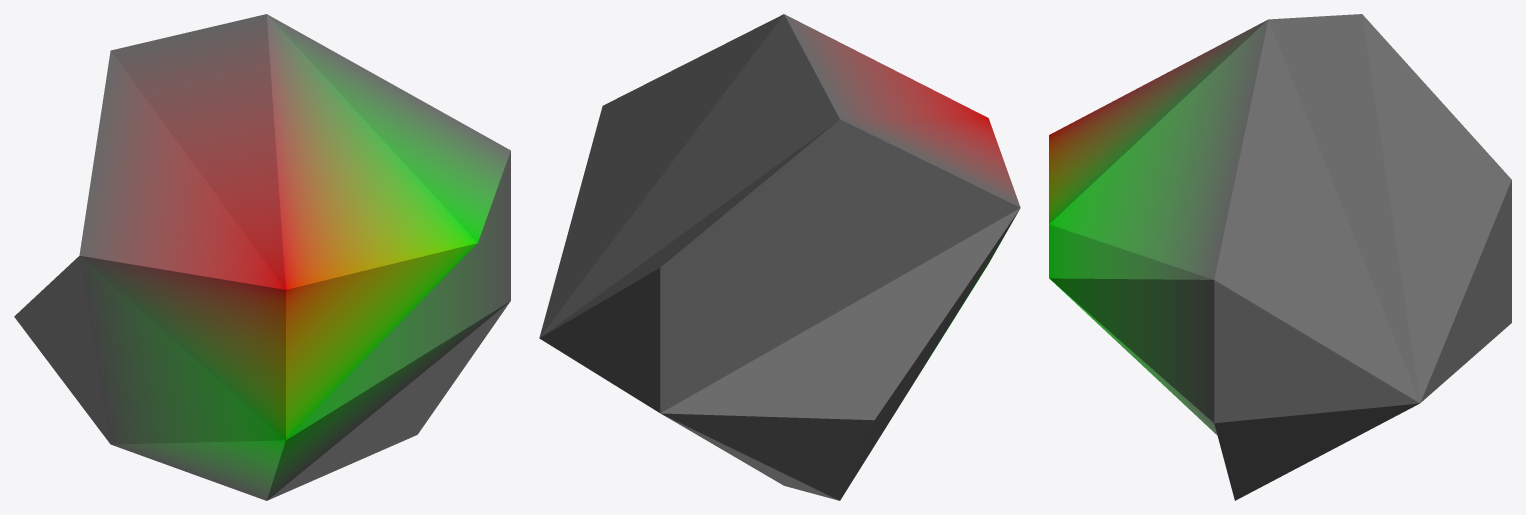
File: re_decimating_conquest_1_retriangulation.obj
The picture shows the model from 3 angles, left to right: view 1: azimuth 30°, elevation 25°; view 2: azimuth 150°, elevation 25°; view 3: azimuth 270°, elevation 25°; orthographic projection. The views are drawn at different scales.
Size of the model in its own units: 1.85 by 2 by 1.81.
